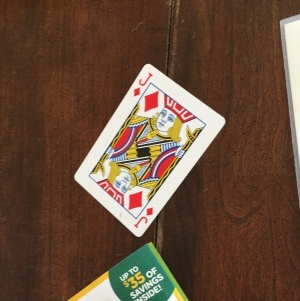card: (72, 62, 228, 239)
